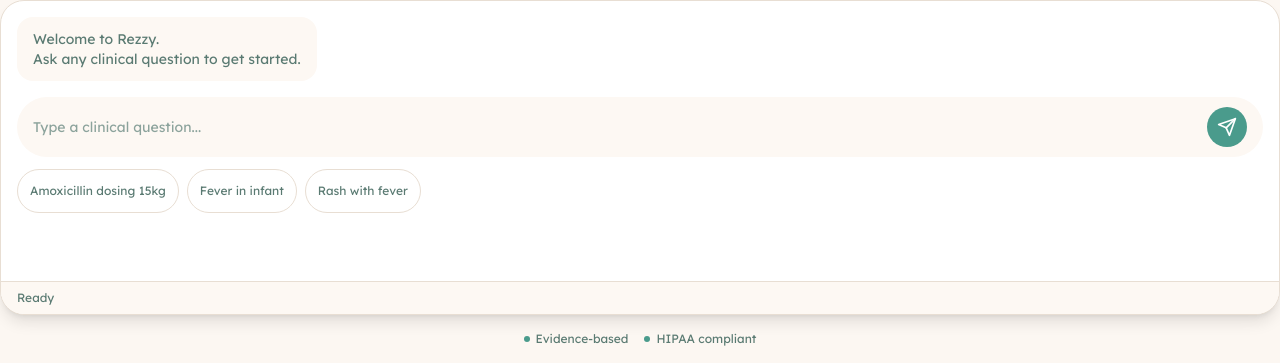
Test case: InteractiveDemo › Question Input › clicking suggestion fills input
Step 1. Click the button "Amoxicillin dosing 15kg" → (98, 191), box [17,169,179,213]
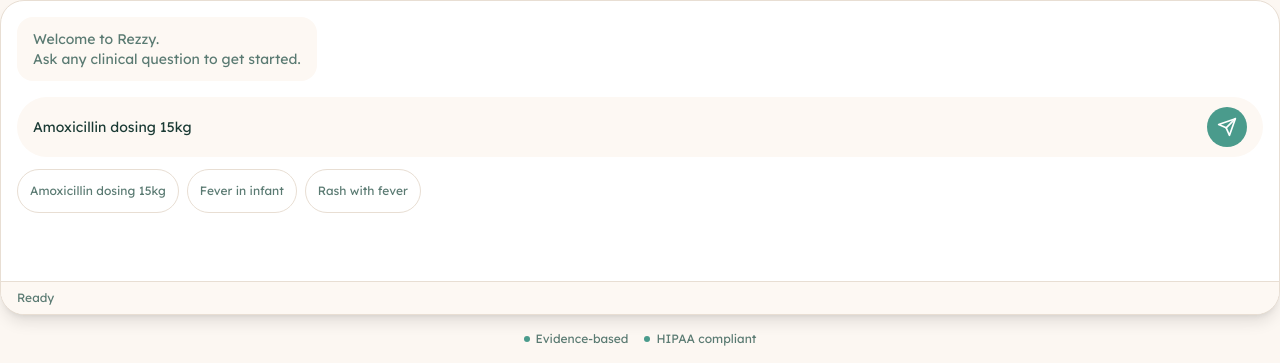
expect the field with placeholder "Type a clinical question..." holds "Amoxicillin dosing 15kg": met, box [33,105,1199,149]
